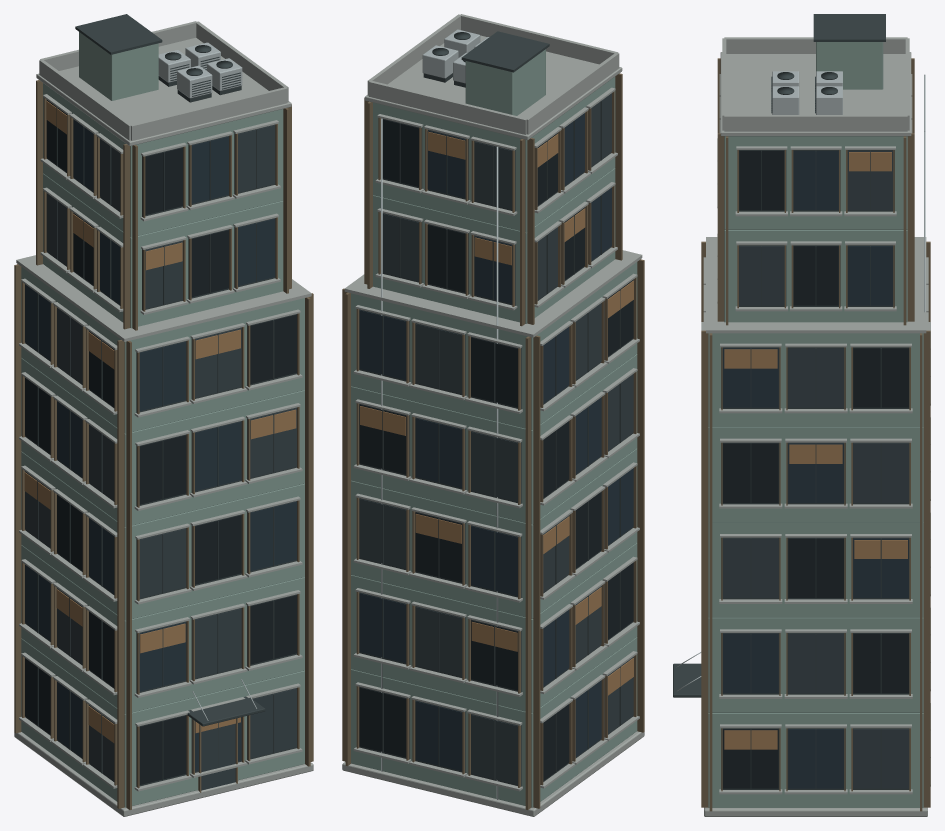
Rendered from site-skyline-glass.glb.
3 views of the same model, side by side, from view 1: azimuth 30°, elevation 25°; view 2: azimuth 150°, elevation 25°; view 3: azimuth 270°, elevation 25° (orthographic).
Visible parts, largest first — view 1: site-skyline-glass_Sage_ceramic_cladding, site-skyline-glass_Honed_grey_sandstone, site-skyline-glass_Brushed_architectural_bronze, site-skyline-glass_Interior_shadow_glazing, site-skyline-glass_Smoked_architectural_glass, site-skyline-glass_Blue_reflective_glazing, site-skyline-glass_Anthracite_anodized_metal, site-skyline-glass_Weathered_warm_teak, site-skyline-glass_Galvanized_brushed_steel; view 2: site-skyline-glass_Sage_ceramic_cladding, site-skyline-glass_Honed_grey_sandstone, site-skyline-glass_Brushed_architectural_bronze, site-skyline-glass_Blue_reflective_glazing, site-skyline-glass_Smoked_architectural_glass, site-skyline-glass_Interior_shadow_glazing, site-skyline-glass_Anthracite_anodized_metal, site-skyline-glass_Weathered_warm_teak, site-skyline-glass_Galvanized_brushed_steel; view 3: site-skyline-glass_Sage_ceramic_cladding, site-skyline-glass_Honed_grey_sandstone, site-skyline-glass_Brushed_architectural_bronze, site-skyline-glass_Smoked_architectural_glass, site-skyline-glass_Interior_shadow_glazing, site-skyline-glass_Blue_reflective_glazing, site-skyline-glass_Anthracite_anodized_metal, site-skyline-glass_Weathered_warm_teak, site-skyline-glass_Galvanized_brushed_steel.
Part boxes in pixels (x1,y1,x2,y2): site-skyline-glass_Sage_ceramic_cladding: [21, 32, 304, 807]; site-skyline-glass_Honed_grey_sandstone: [14, 21, 313, 816]; site-skyline-glass_Brushed_architectural_bronze: [14, 80, 313, 809]; site-skyline-glass_Interior_shadow_glazing: [25, 100, 296, 784]; site-skyline-glass_Smoked_architectural_glass: [25, 125, 296, 790]; site-skyline-glass_Blue_reflective_glazing: [25, 119, 296, 771]; site-skyline-glass_Anthracite_anodized_metal: [25, 14, 296, 786]; site-skyline-glass_Weathered_warm_teak: [24, 101, 296, 742]; site-skyline-glass_Galvanized_brushed_steel: [158, 42, 256, 720]; site-skyline-glass_Sage_ceramic_cladding: [351, 49, 637, 807]; site-skyline-glass_Honed_grey_sandstone: [342, 14, 644, 816]; site-skyline-glass_Brushed_architectural_bronze: [342, 73, 644, 809]; site-skyline-glass_Blue_reflective_glazing: [359, 113, 633, 770]; site-skyline-glass_Smoked_architectural_glass: [359, 93, 633, 784]; site-skyline-glass_Interior_shadow_glazing: [359, 119, 633, 780]; site-skyline-glass_Anthracite_anodized_metal: [359, 31, 633, 786]; site-skyline-glass_Weathered_warm_teak: [360, 131, 633, 695]; site-skyline-glass_Galvanized_brushed_steel: [381, 29, 498, 799]; site-skyline-glass_Sage_ceramic_cladding: [708, 42, 923, 807]; site-skyline-glass_Honed_grey_sandstone: [701, 37, 930, 816]; site-skyline-glass_Brushed_architectural_bronze: [701, 58, 930, 811]; site-skyline-glass_Smoked_architectural_glass: [723, 151, 908, 788]; site-skyline-glass_Interior_shadow_glazing: [723, 151, 908, 788]; site-skyline-glass_Blue_reflective_glazing: [723, 151, 908, 788]; site-skyline-glass_Anthracite_anodized_metal: [673, 14, 909, 789]; site-skyline-glass_Weathered_warm_teak: [724, 152, 907, 749]; site-skyline-glass_Galvanized_brushed_steel: [676, 71, 925, 691].
Size of the model in its own units: 6.82 by 23.89 by 7.65.
